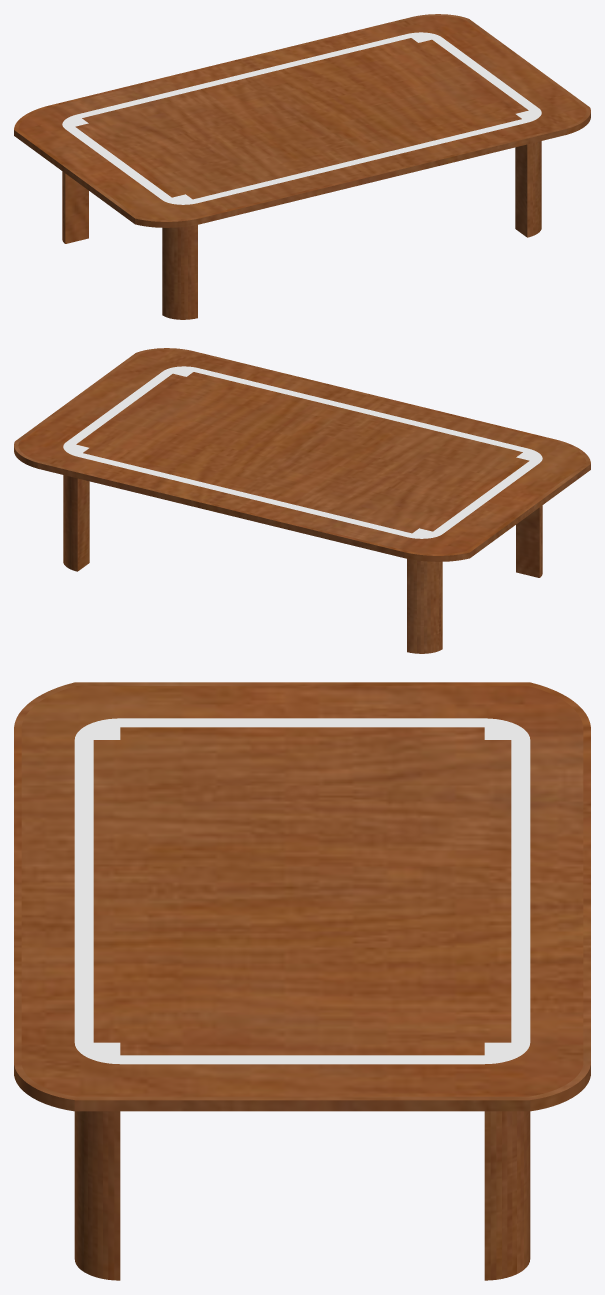
File: DiningTable.obj
3 renders of one model, top to bottom at view 1: azimuth 30°, elevation 25°; view 2: azimuth 150°, elevation 25°; view 3: azimuth 270°, elevation 25°, orthographic. The views are drawn at different scales.
Parts seen in each view (by area): view 1: Mesh1 Component_22_1 Model; view 2: Mesh1 Component_22_1 Model; view 3: Mesh1 Component_22_1 Model.
Part boxes in pixels (x1,y1,x2,y2): Mesh1 Component_22_1 Model: (14,14,590,319); Mesh1 Component_22_1 Model: (14,348,590,653); Mesh1 Component_22_1 Model: (14,682,590,1280).
Bounding box in the file's own units: 1.81 × 0.4362 × 1.05.
2 materials, 1 textured.
